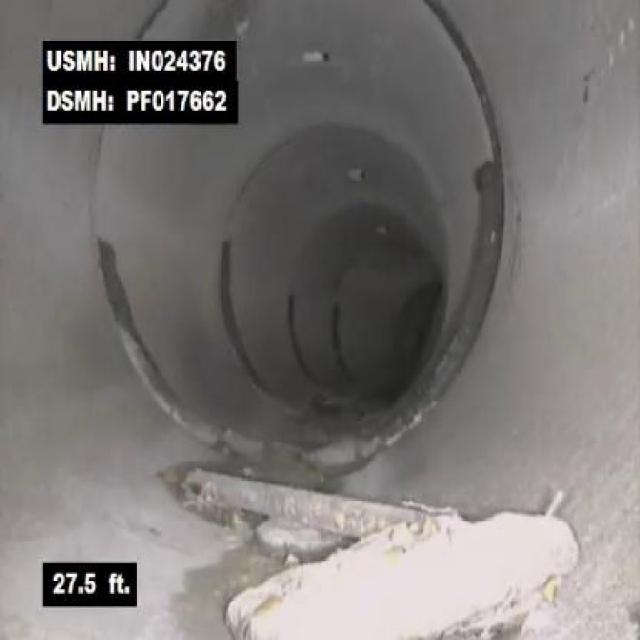Debris: (180, 446, 591, 639)
